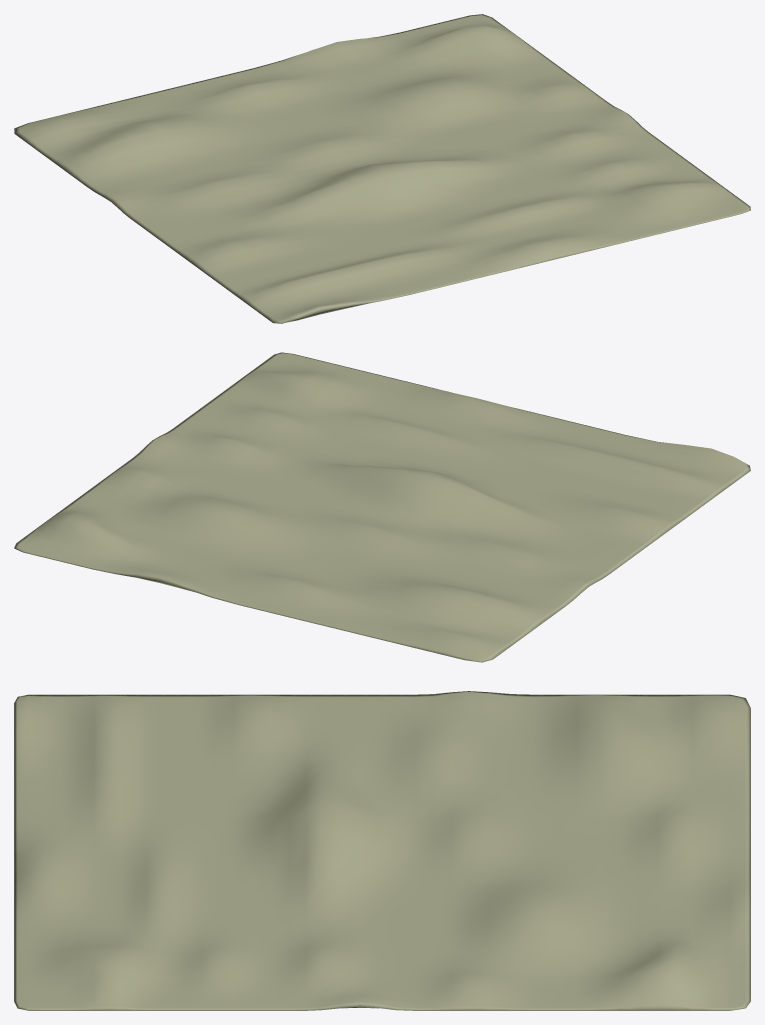
File: sand.fbx
3 views of the same model, one above another, from view 1: azimuth 30°, elevation 25°; view 2: azimuth 150°, elevation 25°; view 3: azimuth 270°, elevation 25° (orthographic). The views are drawn at different scales.
Visible parts, largest first — view 1: sand_bumps; view 2: sand_bumps; view 3: sand_bumps.
Part boxes in pixels (x1,y1,x2,y2): sand_bumps: [14, 14, 750, 323]; sand_bumps: [14, 352, 750, 662]; sand_bumps: [14, 691, 750, 1010].
Bounding box in the file's own units: 2079 × 90.29 × 2047.
